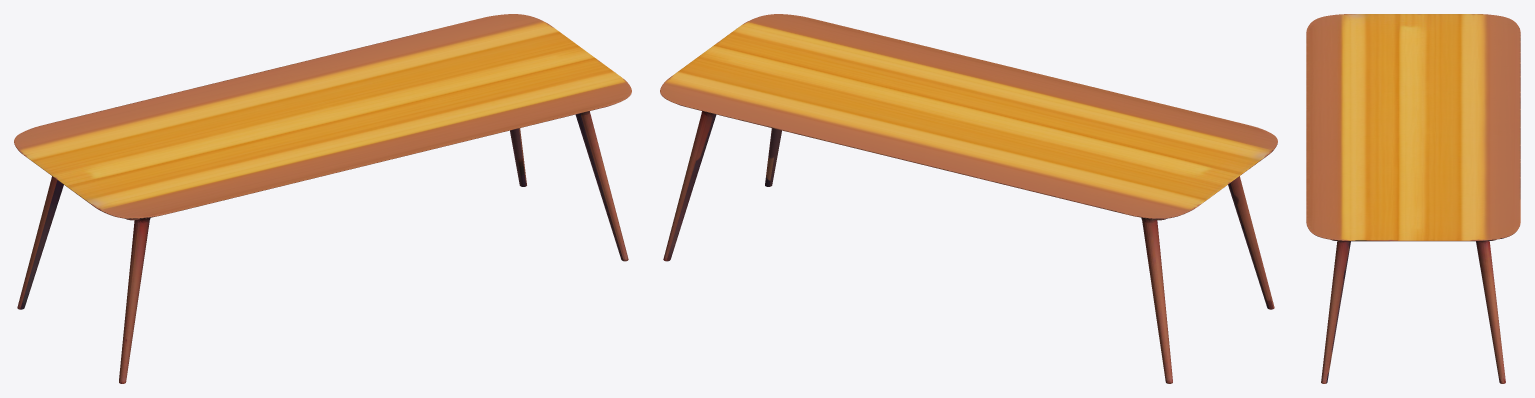
Rendered from edited_mesh.glb.
3 views of the same model, side by side, from view 1: azimuth 30°, elevation 25°; view 2: azimuth 150°, elevation 25°; view 3: azimuth 270°, elevation 25° (orthographic). The views are drawn at different scales.
Parts seen in each view (by area): view 1: normalized_model.obj; view 2: normalized_model.obj; view 3: normalized_model.obj.
Part boxes in pixels (x1=…): normalized_model.obj: x1=14, y1=14, x2=631, y2=383; normalized_model.obj: x1=660, y1=14, x2=1277, y2=383; normalized_model.obj: x1=1306, y1=14, x2=1520, y2=383.
Bounding box in the file's own units: 2 × 0.6096 × 0.8.
Materials: 1 (1 with a texture image).
